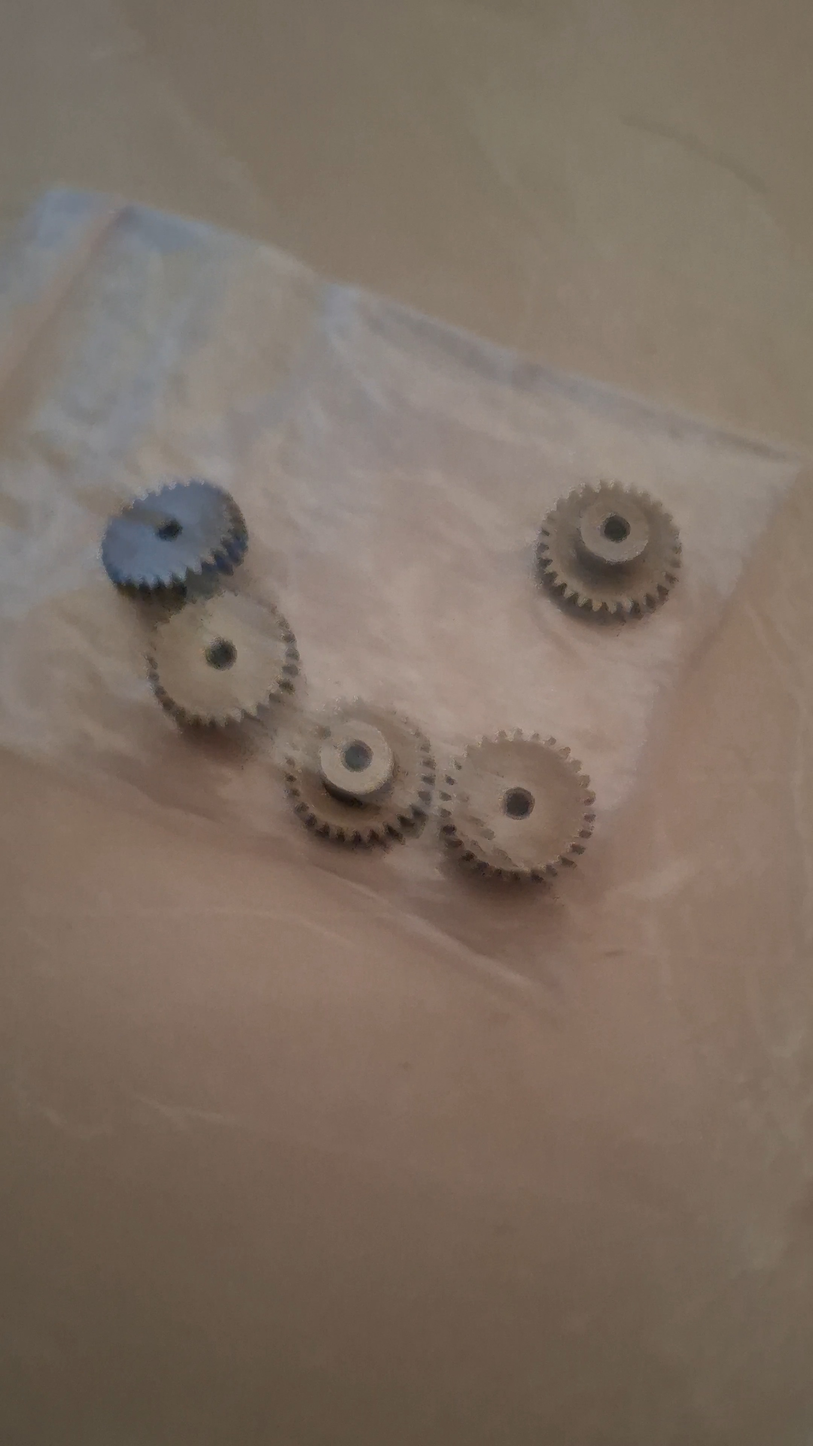spur gear: (440, 732, 594, 880), (286, 701, 435, 845), (147, 591, 298, 725), (536, 483, 681, 619), (101, 480, 247, 594)
